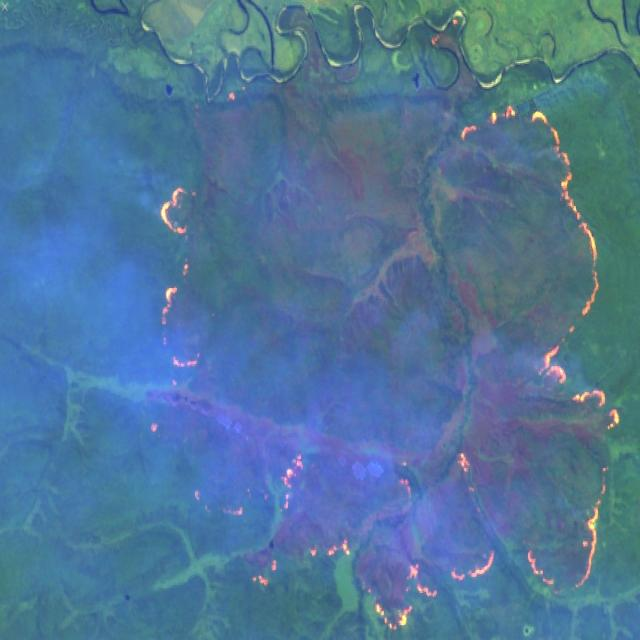fire: (251, 93, 628, 640), (144, 178, 210, 392)
